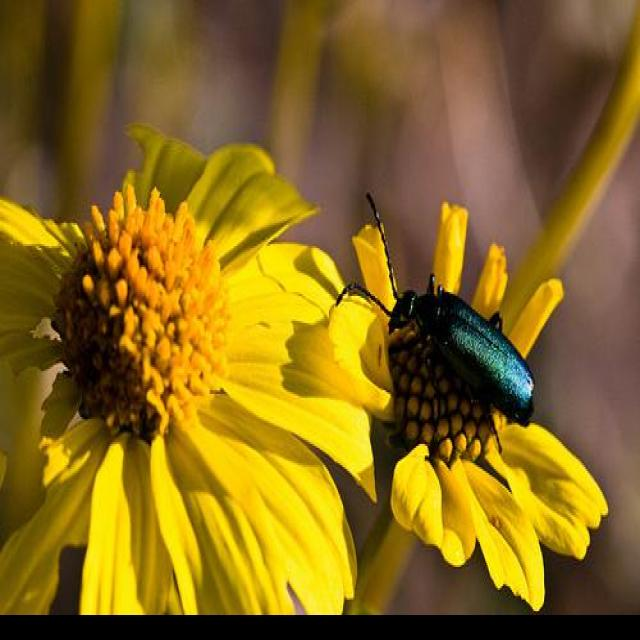BlisterBeetle-Adult-: (334, 190, 536, 426)
